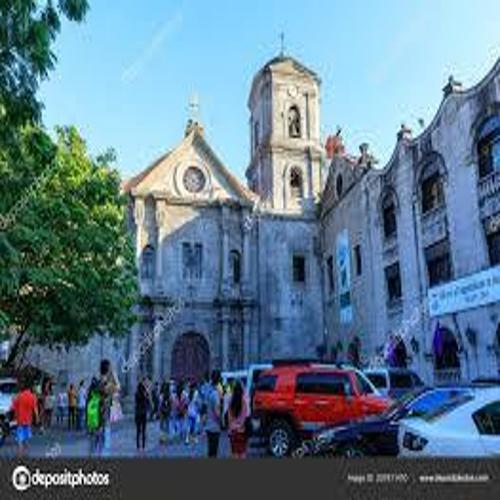San Agustin Church: (122, 25, 327, 387)
